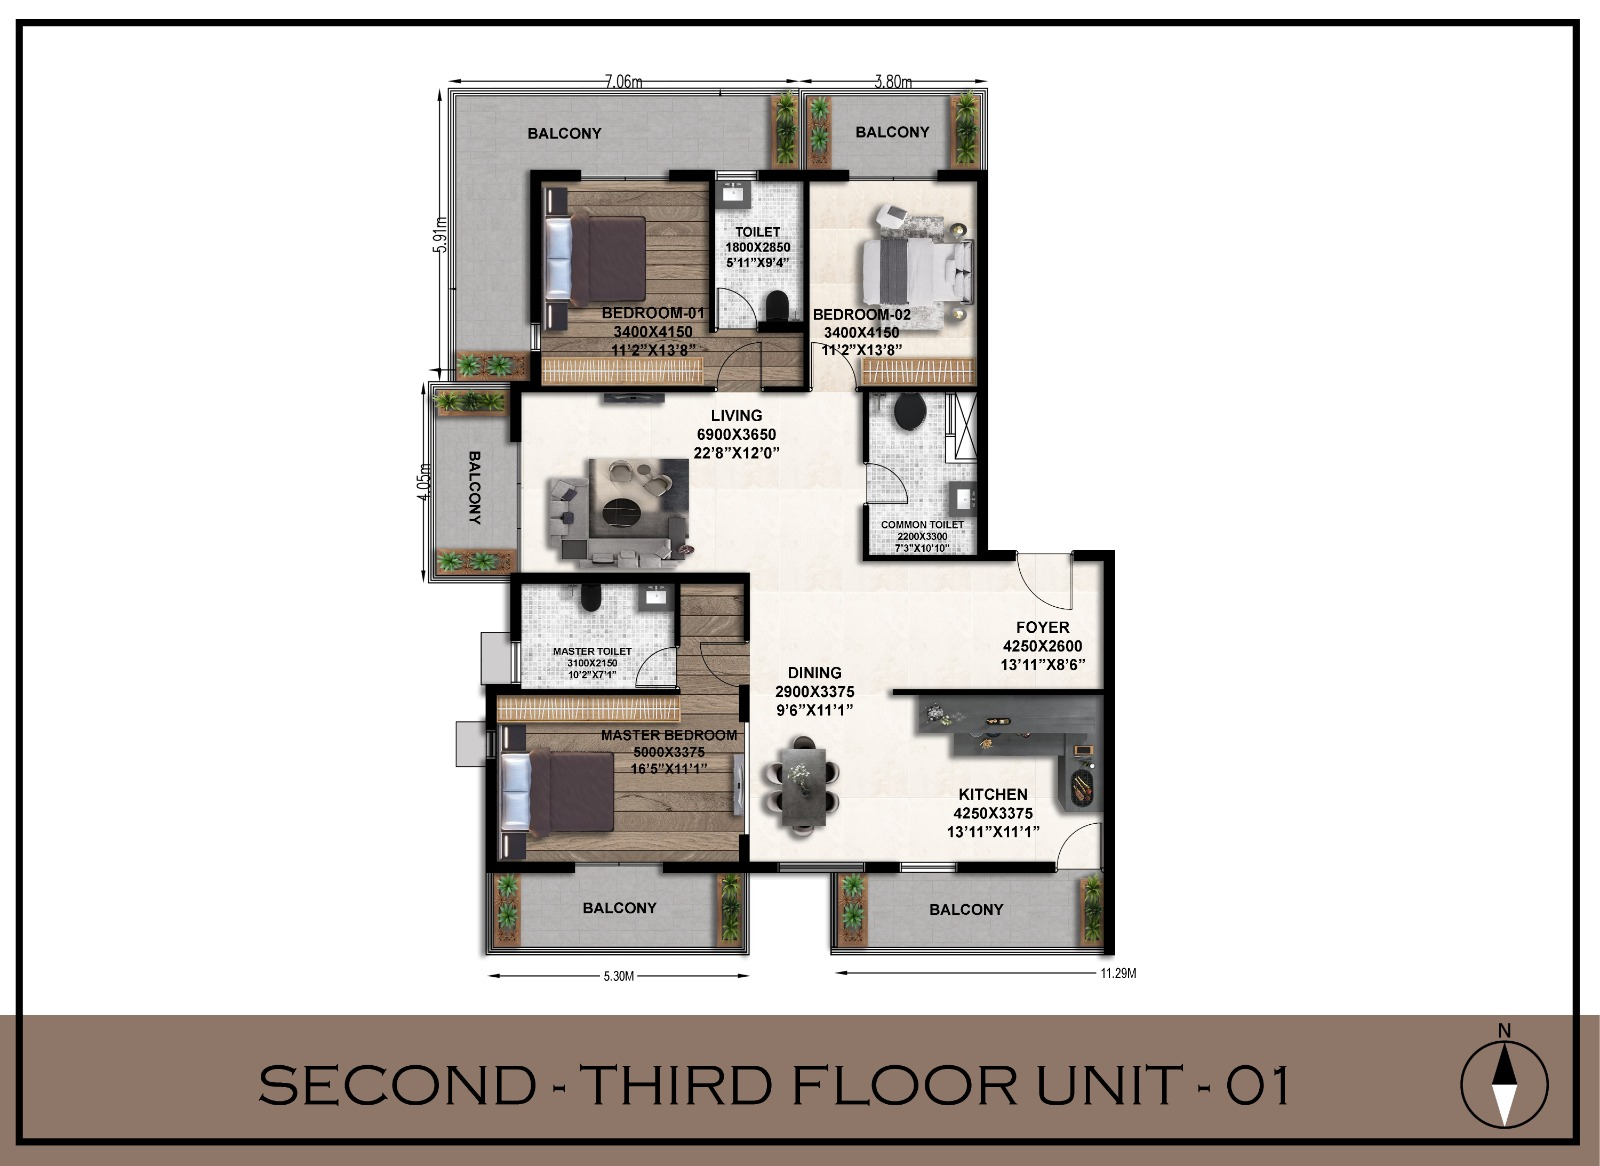door: (1014, 553, 1077, 613), (809, 338, 862, 392), (714, 339, 766, 390), (698, 638, 749, 689), (1055, 821, 1103, 870), (714, 283, 763, 332), (865, 459, 911, 507), (634, 646, 677, 692)
